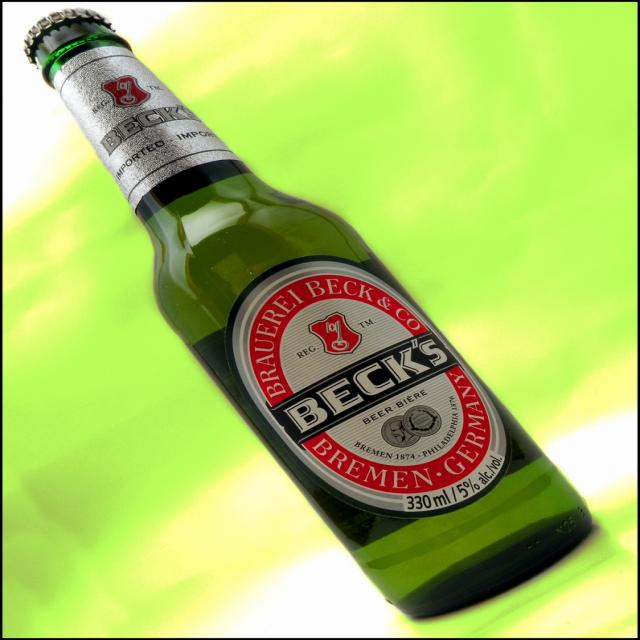becks: (231, 261, 506, 513)
